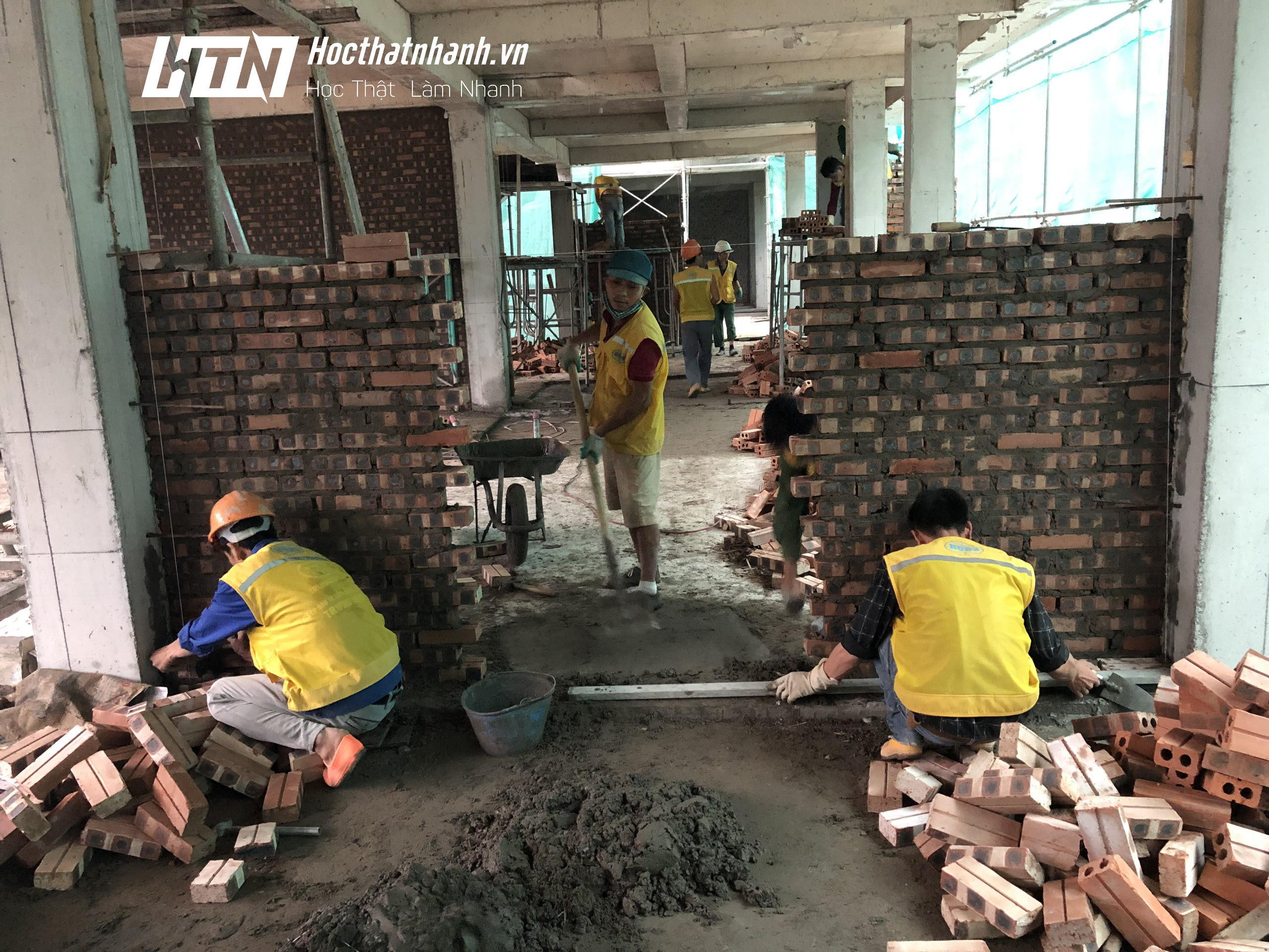Gloves: (771, 658, 839, 704), (1049, 654, 1102, 699), (579, 431, 603, 465), (556, 340, 579, 371)
Helmet: (207, 489, 276, 546), (605, 249, 653, 286), (680, 240, 701, 259), (713, 239, 733, 254)
Person: (771, 486, 1102, 761), (149, 489, 405, 787), (556, 248, 669, 610), (761, 390, 817, 615), (672, 239, 722, 398), (707, 239, 742, 357), (593, 175, 626, 249)
Safety Boot: (316, 726, 367, 788), (881, 735, 922, 764), (621, 576, 662, 601), (688, 381, 713, 396)
Safety Vest: (240, 565, 394, 711), (896, 555, 1031, 713), (585, 300, 670, 457), (673, 274, 714, 321), (714, 265, 734, 301)
bare-arms: (1063, 651, 1101, 699)
no-helmet: (914, 481, 966, 513)
